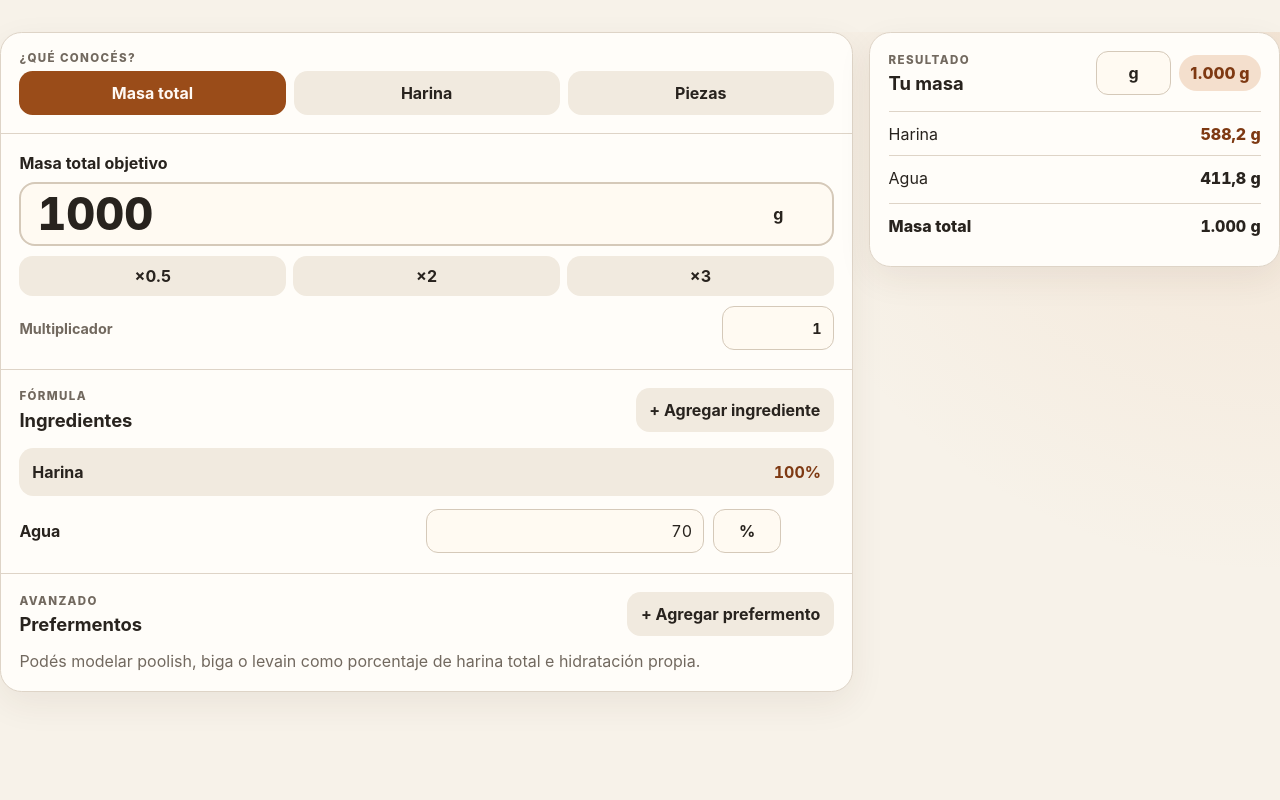
Scenario: CalculatorPanel › shows an inline error and hides calculated results for invalid fixed grams
The width and height of the screenshot is (1280, 800).
Click the button "+ Agregar ingrediente".
click(735, 410)  # box [636,388,834,432]
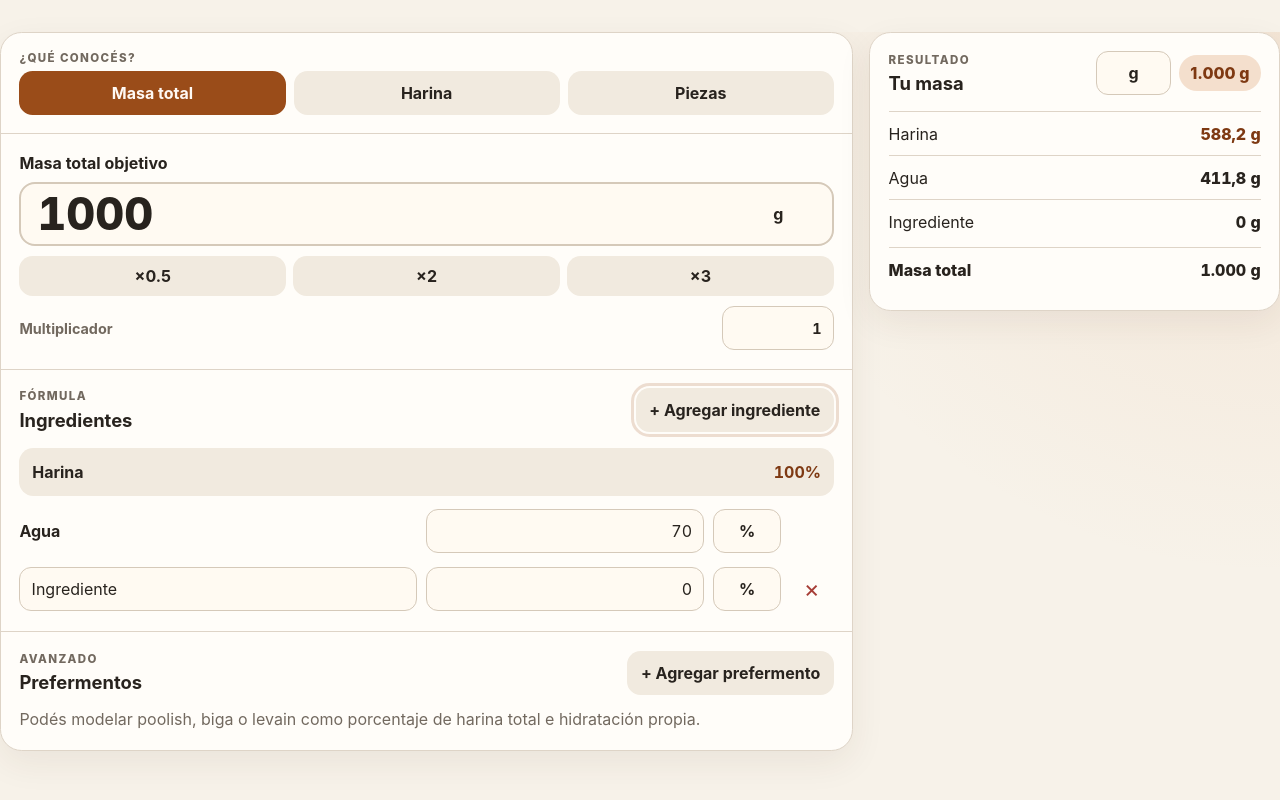
Replace the text in the field named "Cantidad de Ingrediente" with "1000" at (565, 589), box [426,567,704,611]
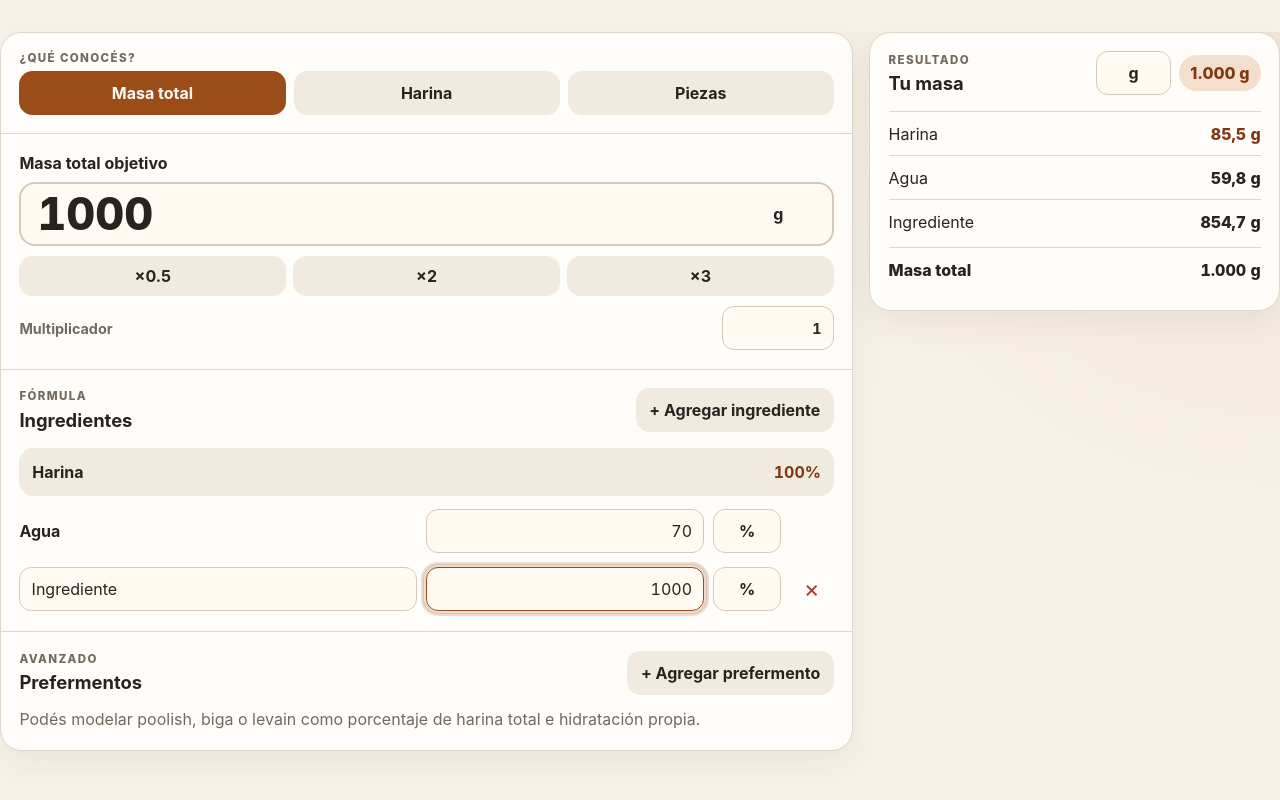
Select "g" in the dropdown named "Unidad de Ingrediente" at (747, 589), box [713,567,781,611]
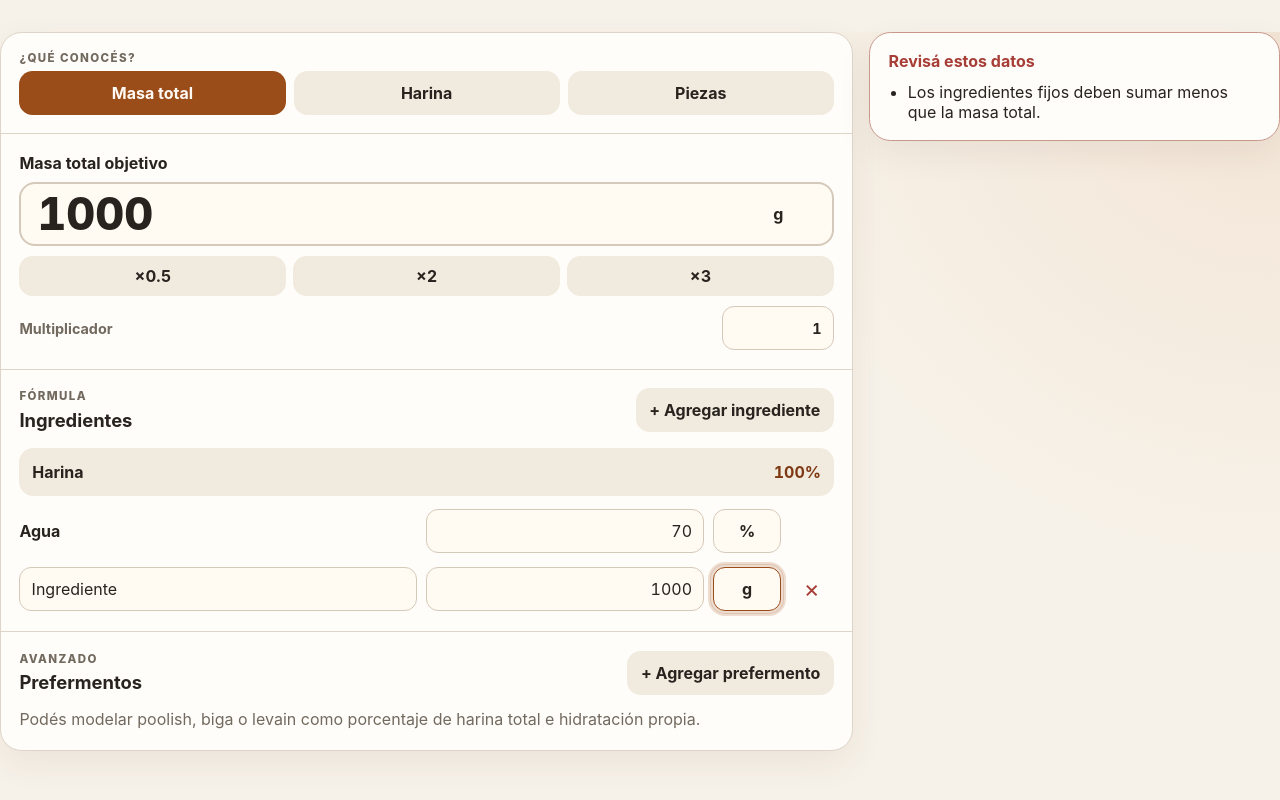
Result: the message shows "Los ingredientes fijos deben sumar menos que la masa total." at [908,82,1228,122]
Result: the text "Resultado" is gone
